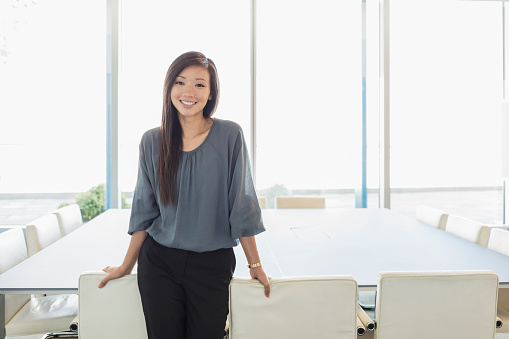em pe: (65, 46, 268, 339)
